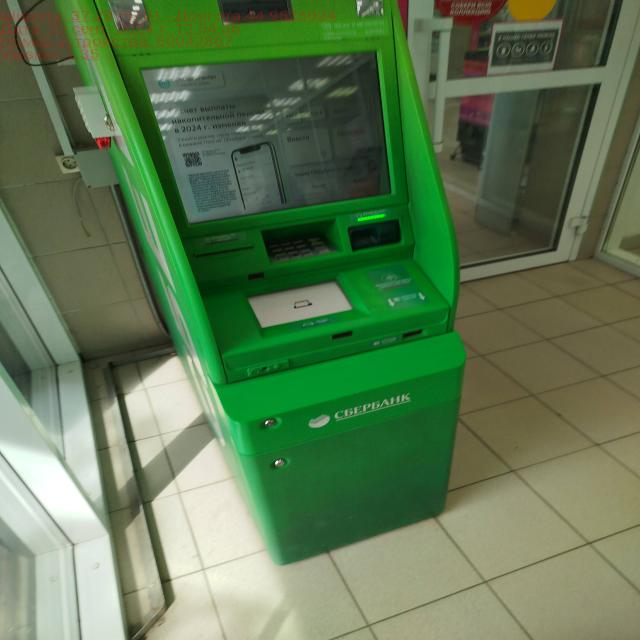bank: (57, 0, 475, 559)
